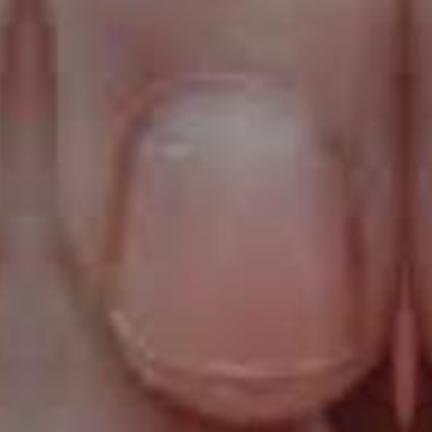Nail: (107, 88, 362, 377)
